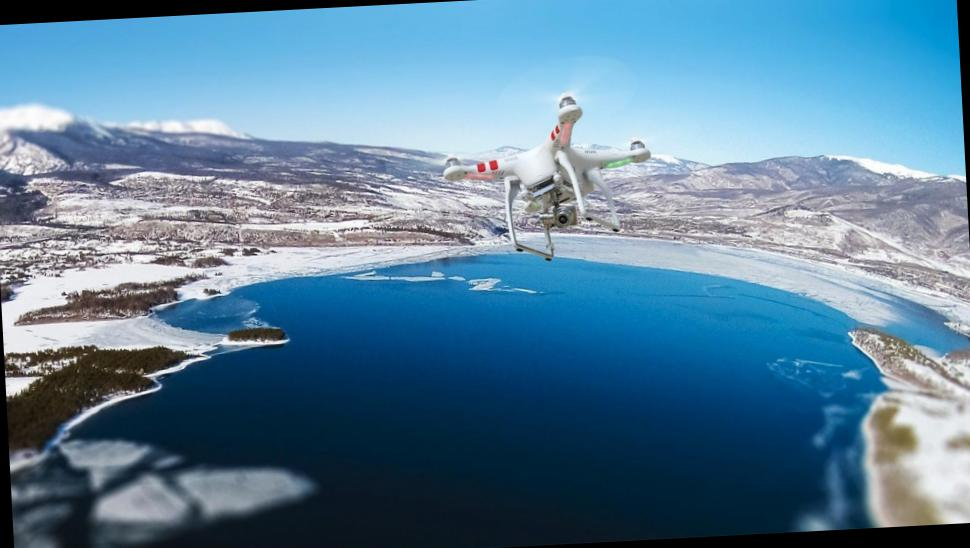drone: (433, 80, 660, 265)
